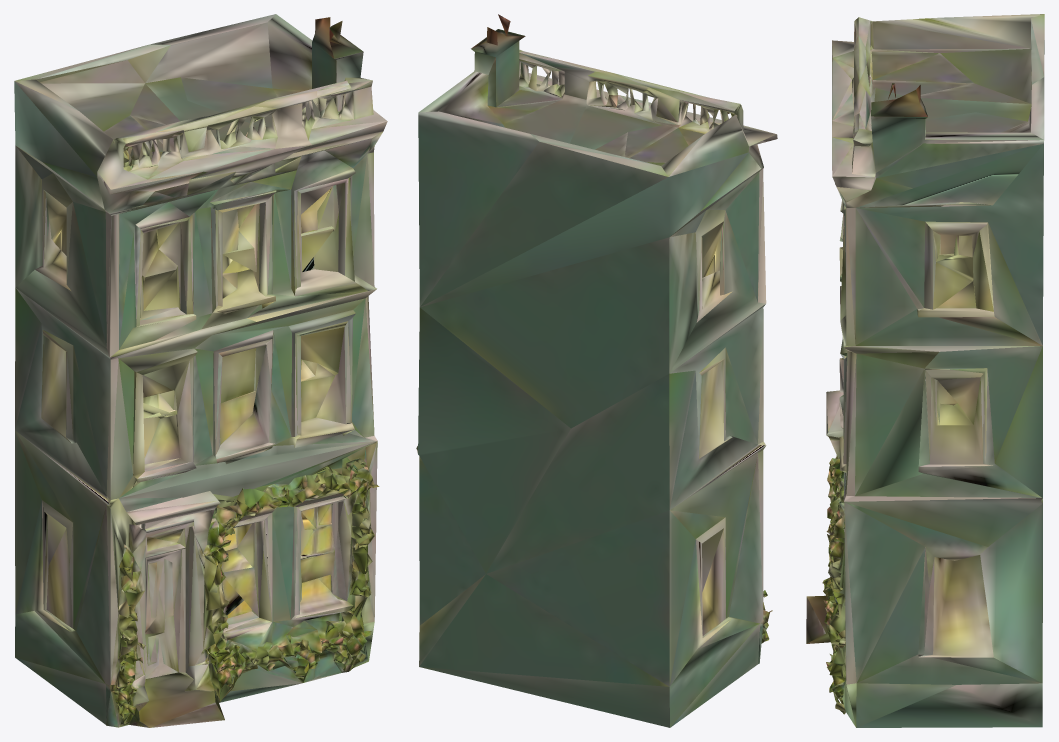
Rendered from getkong-haus18.glb.
3 renders of one model, left to right at view 1: azimuth 30°, elevation 25°; view 2: azimuth 150°, elevation 25°; view 3: azimuth 270°, elevation 25°, orthographic. The views are drawn at different scales.
Parts seen in each view (by area): view 1: output_unwrapped; view 2: output_unwrapped; view 3: output_unwrapped.
Boxes of the visible parts, bbox=[...] form: output_unwrapped: bbox=[14, 14, 387, 727]; output_unwrapped: bbox=[416, 14, 777, 727]; output_unwrapped: bbox=[806, 14, 1044, 727].
Bounding box in the file's own units: 0.8819 × 1.9 × 0.6433.
1 material, 1 textured.
